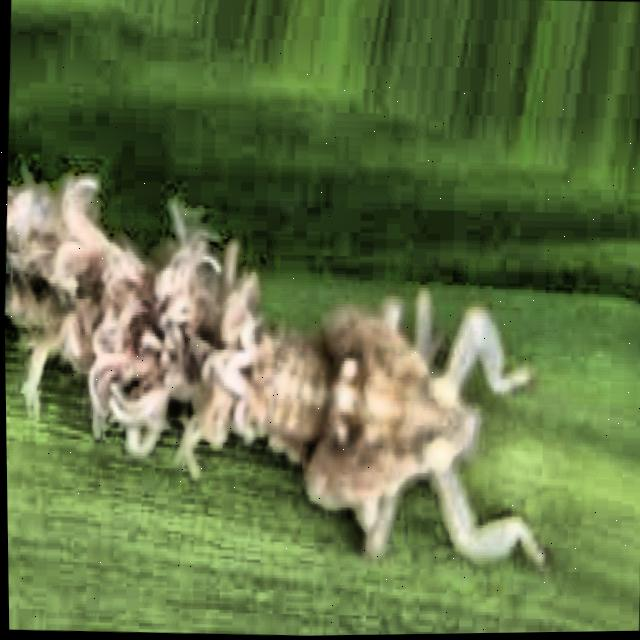Pyrilla-perpusilla: (1, 107, 573, 618)
